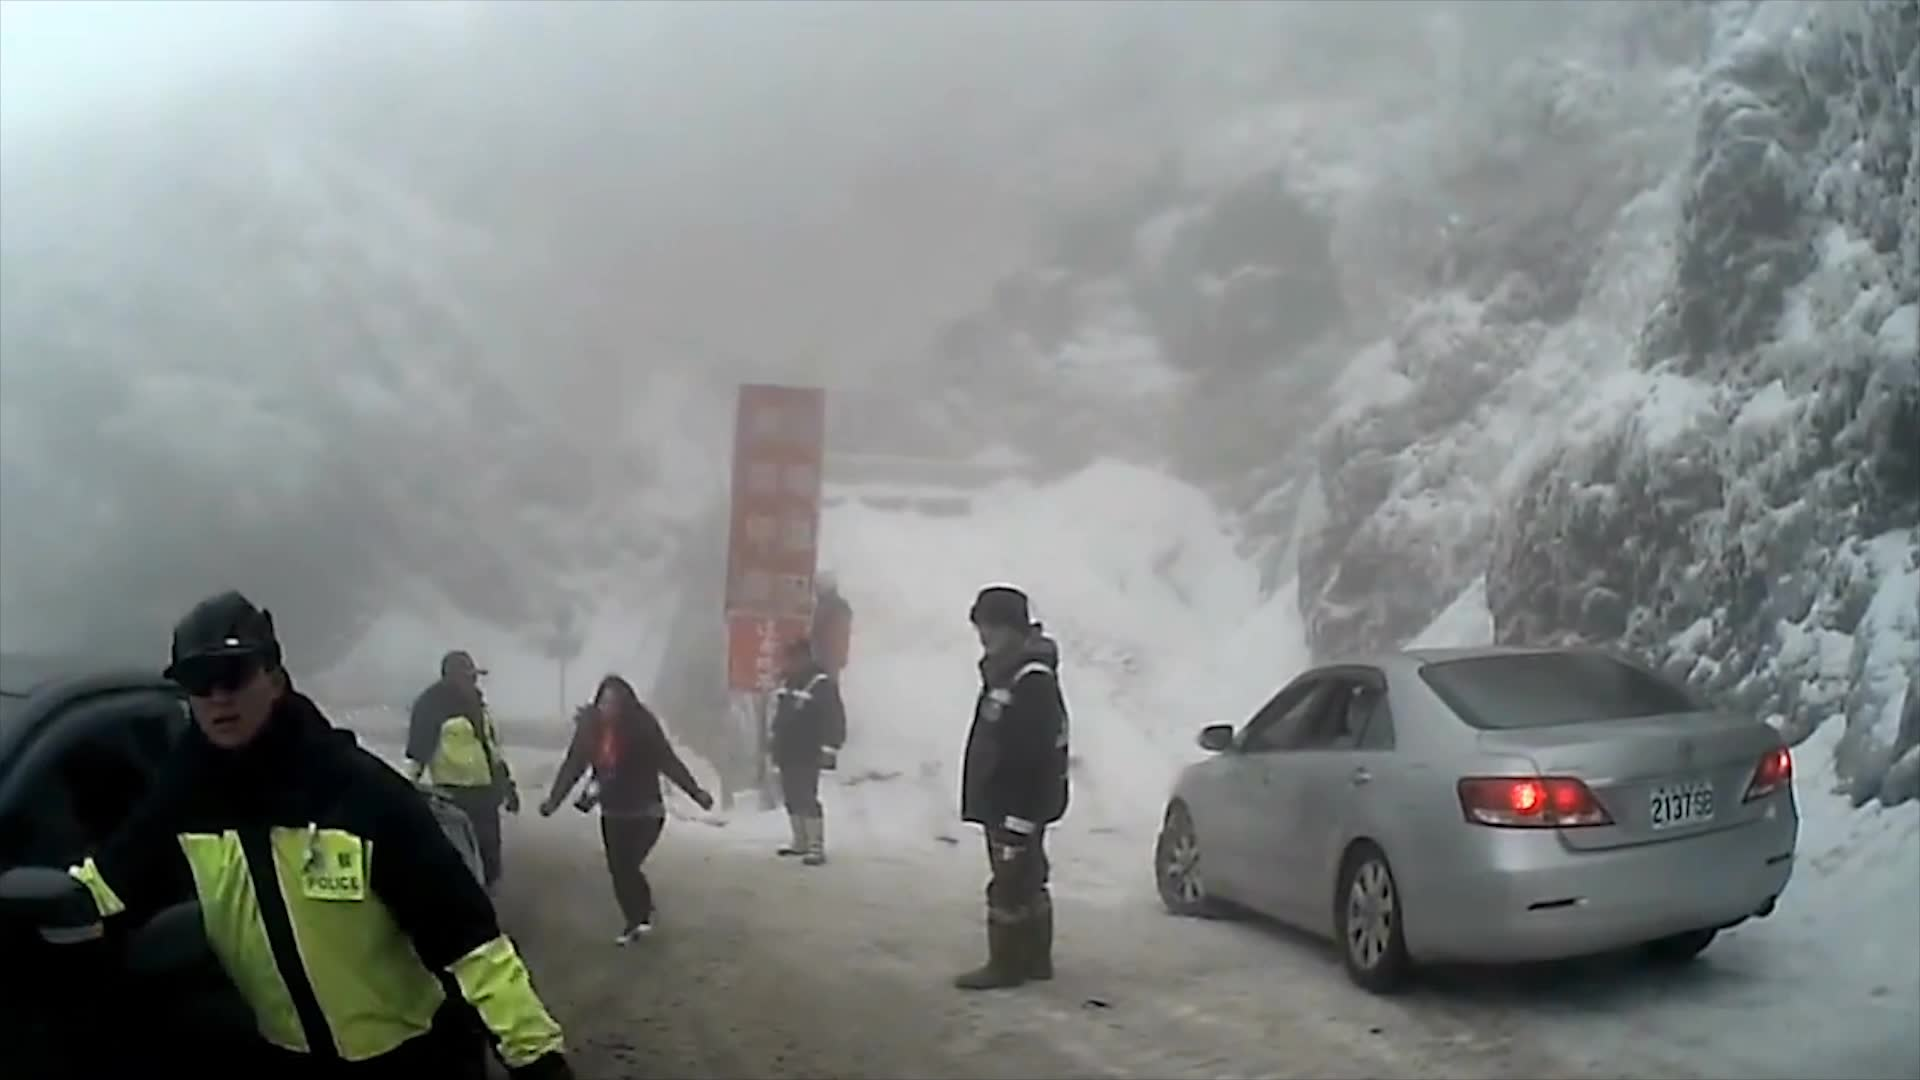pedestrian: (36, 586, 551, 1080), (941, 585, 1072, 989), (540, 676, 709, 948), (398, 645, 526, 931), (764, 639, 848, 864), (801, 564, 863, 754)
vehicle: (1152, 643, 1799, 992), (0, 654, 491, 1079)
